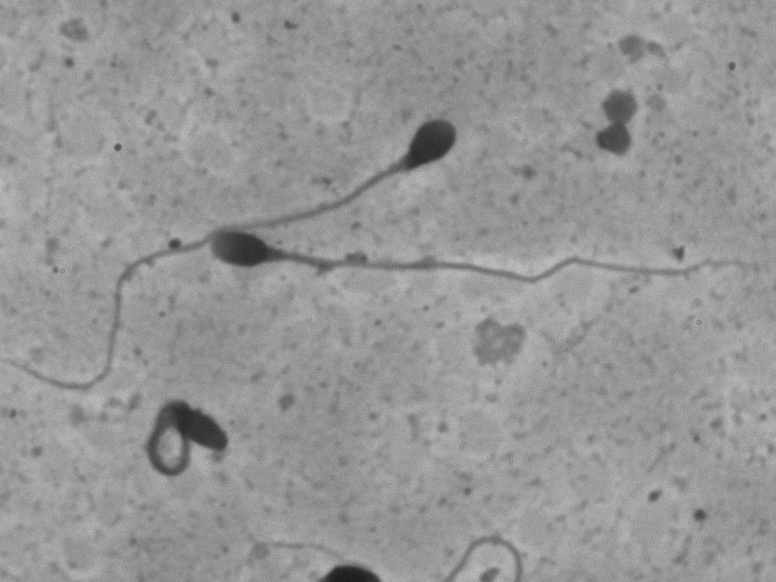Abnormal: (300, 53, 480, 208)
Normal: (187, 231, 753, 303)
